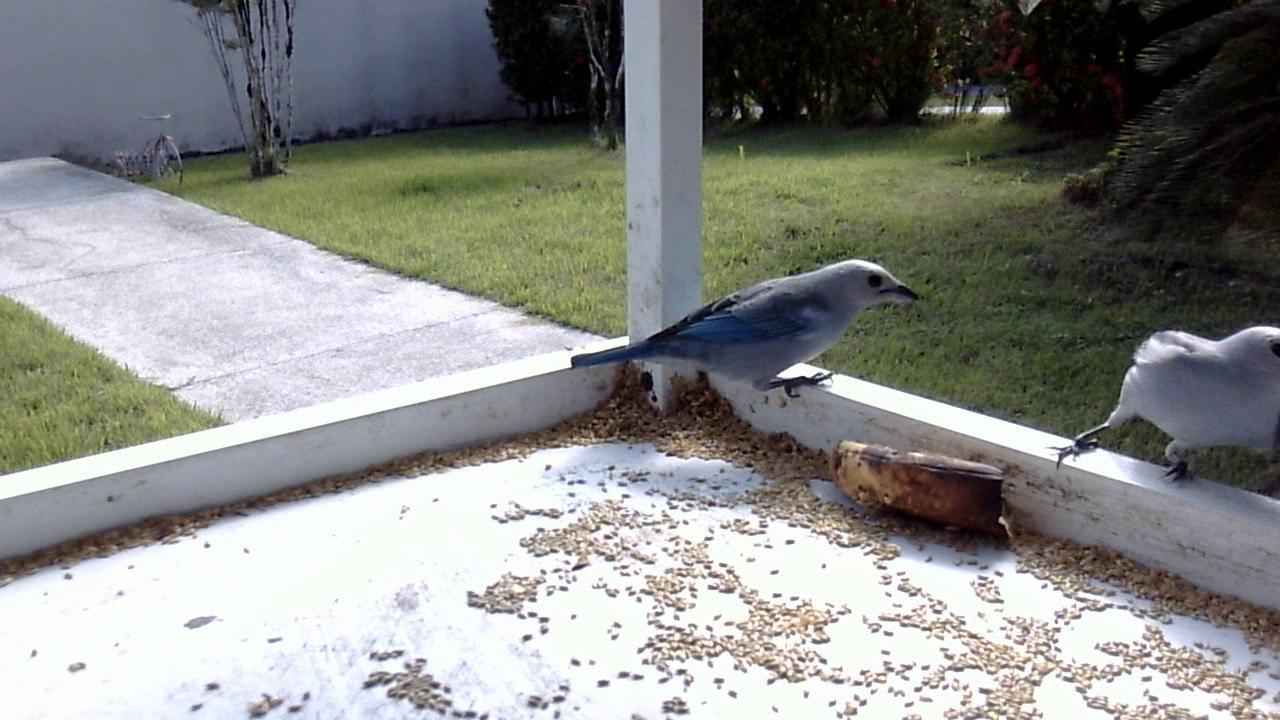sanhaco_da_amazonia: (567, 256, 919, 420), (1051, 311, 1275, 493)
